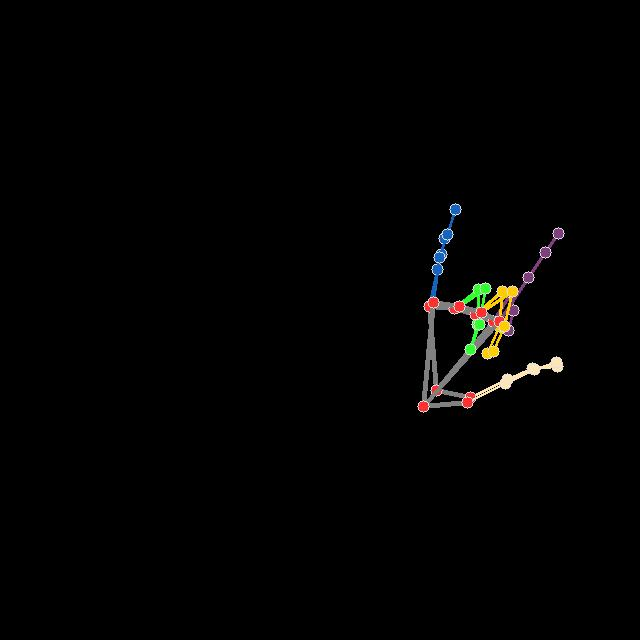spiderman: (417, 203, 564, 410)
